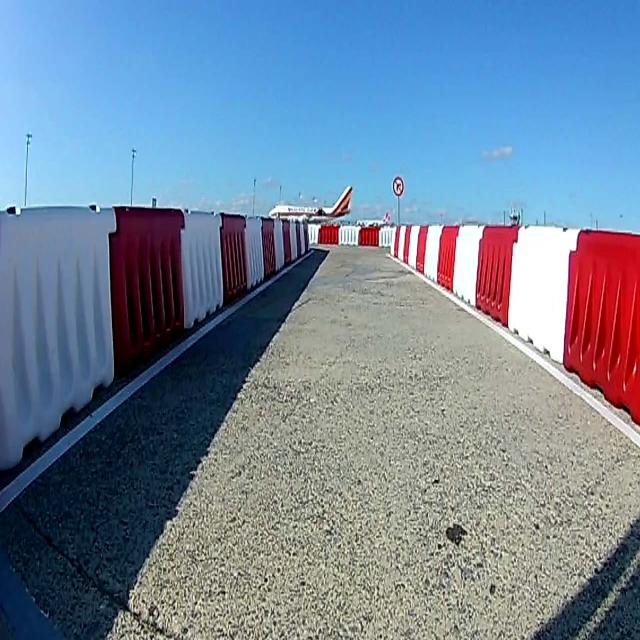sagadonulmez: (394, 177, 404, 196)
